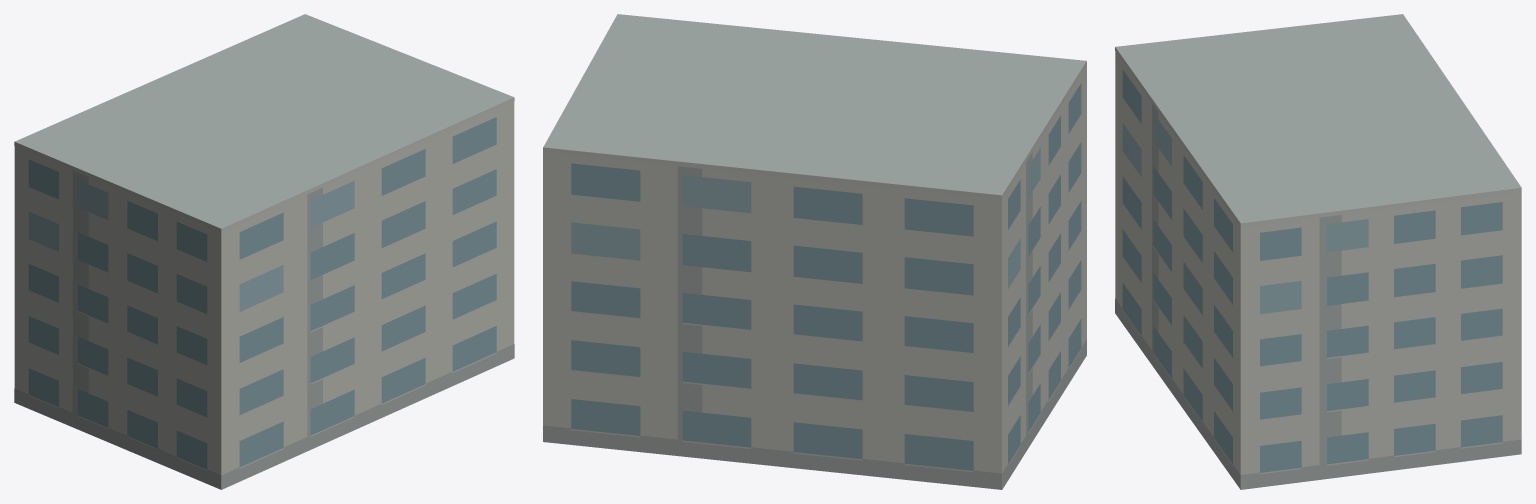
Rendered from residential-2874af30-6a16-4eb8-b64d-1f50f3c552c2.glb.
3 views of the same model, side by side, from view 1: azimuth 30°, elevation 25°; view 2: azimuth 150°, elevation 25°; view 3: azimuth 270°, elevation 25° (orthographic). The views are drawn at different scales.
Parts seen in each view (by area): view 1: residential-2874af30-6a16-4eb8-b64d-1f50f3c552c2.tmp; view 2: residential-2874af30-6a16-4eb8-b64d-1f50f3c552c2.tmp; view 3: residential-2874af30-6a16-4eb8-b64d-1f50f3c552c2.tmp.
Part boxes in pixels (x1,y1,x2,y2): residential-2874af30-6a16-4eb8-b64d-1f50f3c552c2.tmp: (14, 14, 514, 489); residential-2874af30-6a16-4eb8-b64d-1f50f3c552c2.tmp: (543, 14, 1086, 489); residential-2874af30-6a16-4eb8-b64d-1f50f3c552c2.tmp: (1115, 14, 1521, 489).
Bounding box in the file's own units: 25.71 × 15.25 × 21.1.
